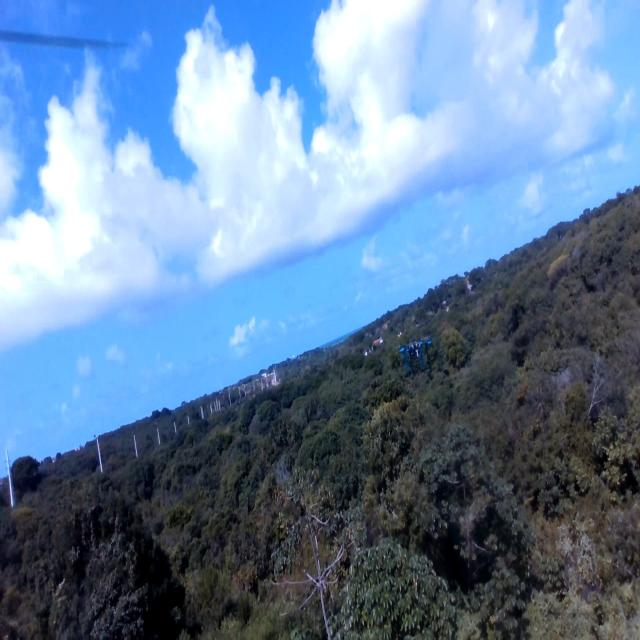-uav-: (389, 324, 439, 385)
